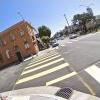crosswalks: (12, 50, 84, 86)
